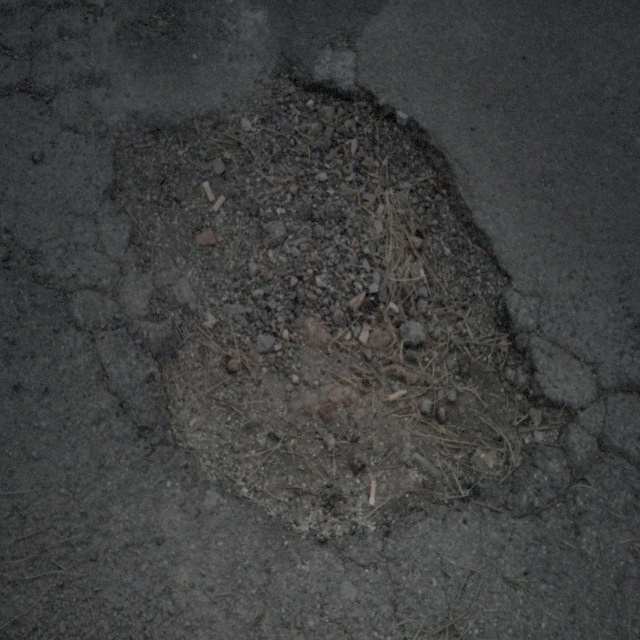pothole: (107, 51, 563, 552)
